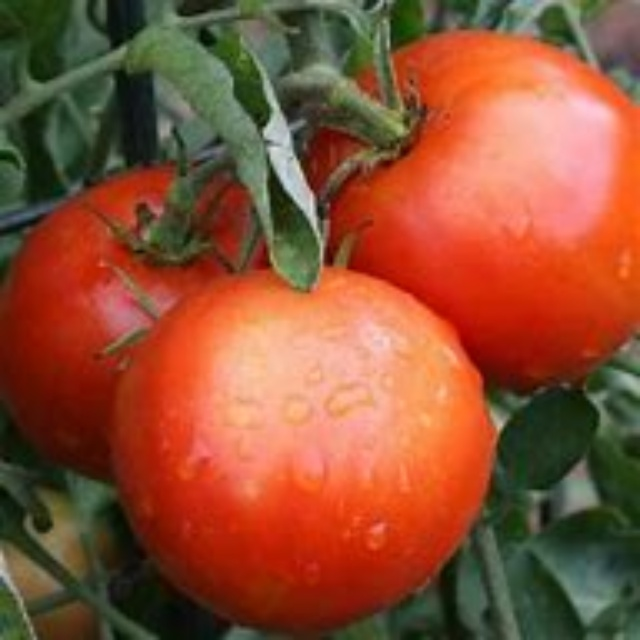tomato: (109, 267, 495, 626), (318, 33, 639, 374), (12, 170, 259, 461)
